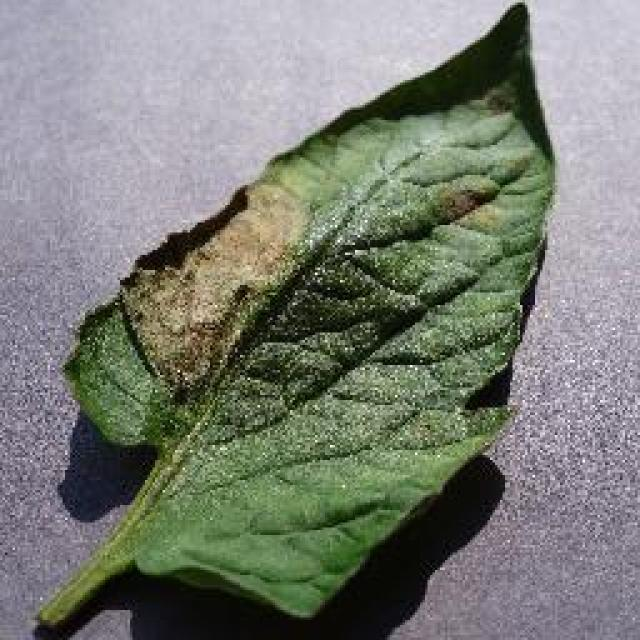Tomato Late Blight: (120, 130, 560, 455)
